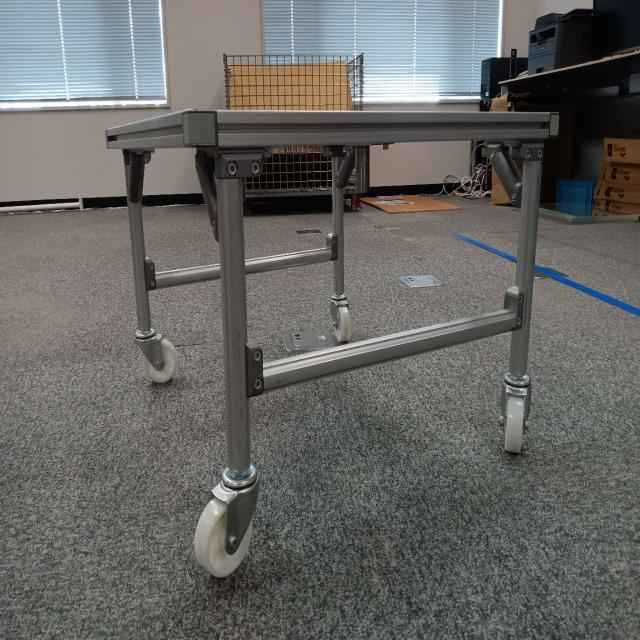door: (125, 109, 229, 238)
side: (222, 110, 540, 381)
